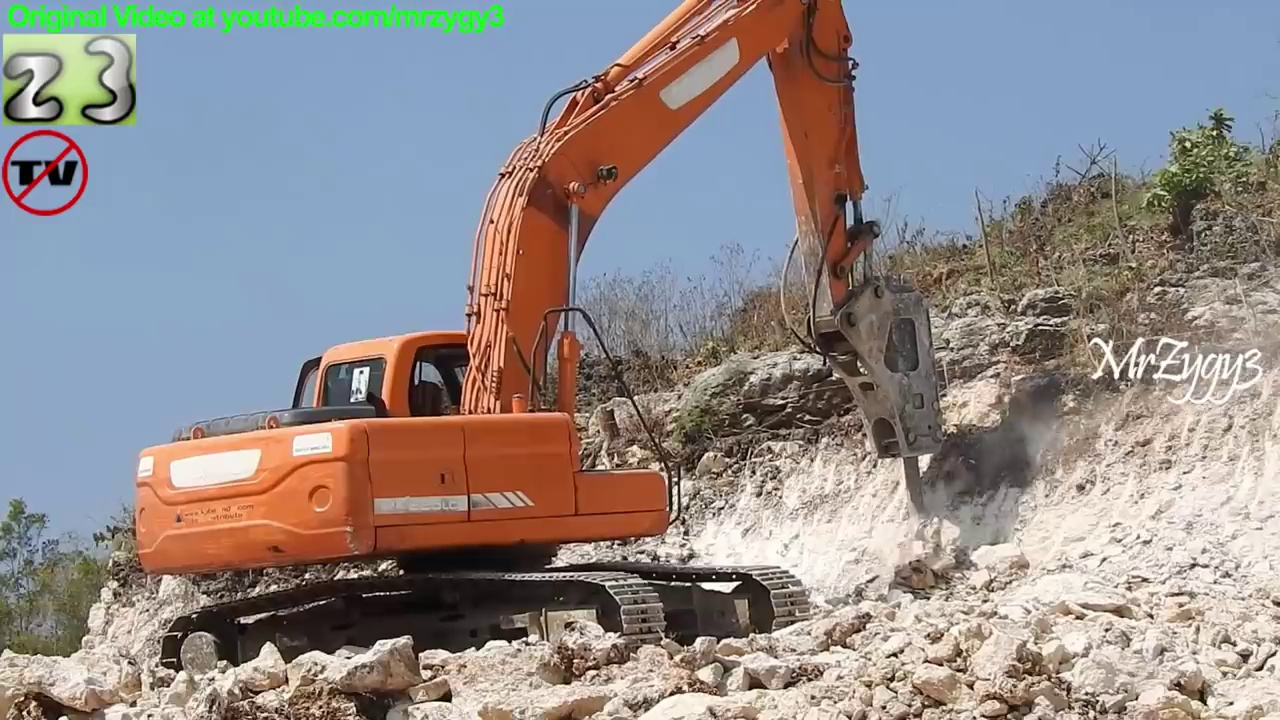excavator breaker: (123, 1, 953, 693)
